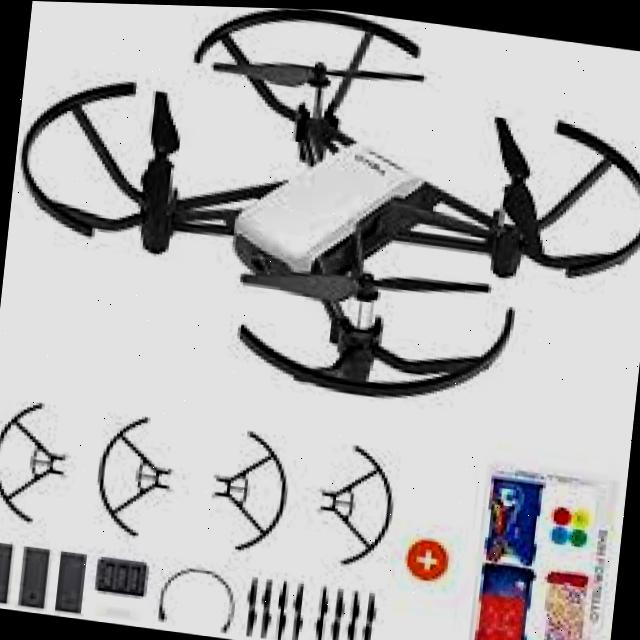drone: (0, 0, 640, 453)
